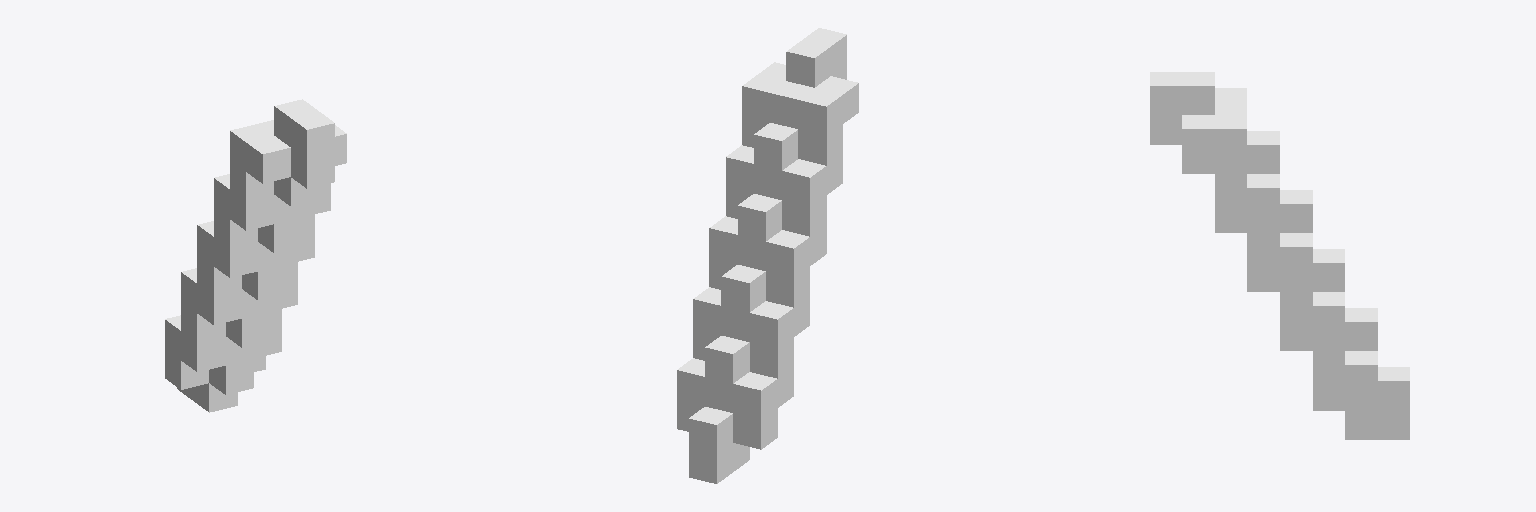
File: Enemy1-4.obj
The picture shows the model from 3 angles: view 1: azimuth 30°, elevation 25°; view 2: azimuth 150°, elevation 25°; view 3: azimuth 270°, elevation 25°; orthographic projection.
Parts seen in each view (by area): view 1: object 1; view 2: object 1; view 3: object 1.
Boxes of the visible parts, <box> form: object 1: <box>165,99,346,412</box>; object 1: <box>677,28,858,483</box>; object 1: <box>1150,72,1409,439</box>.
Size of the model in its own units: 0.3 by 1.2 by 0.8.